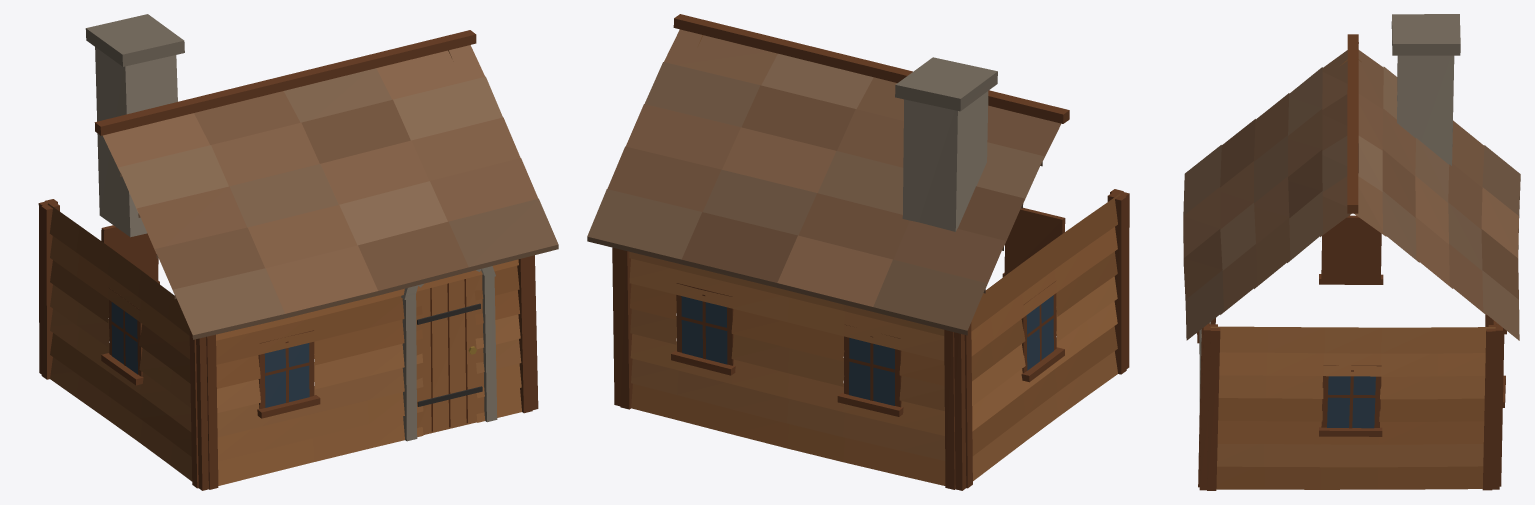
File: cabin-2.glb
3 views of the same model, side by side, from view 1: azimuth 30°, elevation 25°; view 2: azimuth 150°, elevation 25°; view 3: azimuth 270°, elevation 25° (orthographic). The views are drawn at different scales.
Visible parts, largest first — view 1: buildings/cabin-2; view 2: buildings/cabin-2; view 3: buildings/cabin-2.
Part boxes in pixels (x1,y1,x2,y2): buildings/cabin-2: (38,14,558,490); buildings/cabin-2: (587,14,1129,490); buildings/cabin-2: (1183,14,1520,490).
Size of the model in its own units: 5.1 by 4.62 by 4.24.
